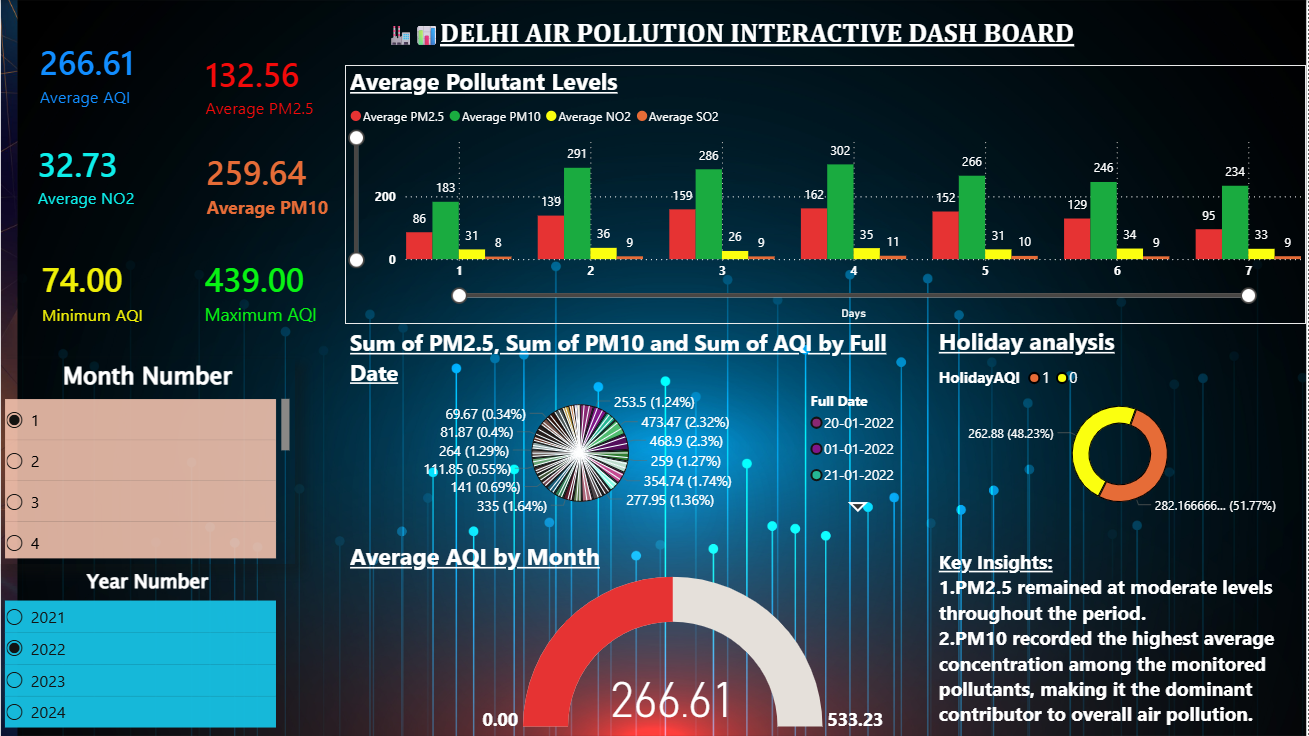

Layout of this report page (visuals, bound fields, positions):
{"tool":"powerbi","page":{"name":"Page 1","canvas":[1280,720],"ordinal":0},"visuals":[{"type":"image","box":[1.2,0,1279.1,720.2],"z":0},{"type":"cardVisual","fields":{"Data":["delhi_air_quality_clean.Average NO2"]},"box":[0,103.9,199.3,134.5],"z":2000},{"type":"cardVisual","fields":{"Data":["delhi_air_quality_clean.Average PM10"]},"box":[165.1,112.5,209.1,134.5],"z":4000},{"type":"clusteredColumnChart","title":"Average Pollutant Levels","fields":{"Y":["delhi_air_quality_clean.Average PM2.5","delhi_air_quality_clean.Average PM10","delhi_air_quality_clean.Average NO2","delhi_air_quality_clean.Average SO2"],"Category":["delhi_air_quality_clean.Days"]},"box":[362,289.8,918.3,253.1],"z":6000},{"type":"scatterChart","fields":{"Size":["Sum(delhi_air_quality_clean.PM10)"],"X":["Sum(delhi_air_quality_clean.PM2.5)"],"Y":["Sum(delhi_air_quality_clean.AQI)"],"Category":["delhi_air_quality_clean.Full Date"]},"box":[362,545.4,918.3,174.9],"z":7000},{"type":"cardVisual","fields":{"Data":["delhi_air_quality_clean.Maximum AQI"]},"box":[165.1,218.9,199.3,132.1],"z":8000},{"type":"listSlicer","fields":{"Values":["delhi_air_quality_clean.Month Number"]},"box":[37.9,342.4,302,200.5],"z":10000},{"type":"listSlicer","fields":{"Values":["delhi_air_quality_clean.Year Number"]},"box":[37.9,545.4,302,159],"z":11000},{"type":"textbox","box":[448.8,1.2,734.9,88],"z":13000},{"type":"cardVisual","fields":{"Data":["delhi_air_quality_clean.Minimum AQI"]},"box":[0,209.1,189.5,151.6],"z":14000},{"type":"lineChart","title":"Average AQI by Date","fields":{"Y":["delhi_air_quality_clean.Average AQI"],"Series":["delhi_air_quality_clean.Year Number"],"Category":["delhi_air_quality_clean.Full Date Hierarchy.Full Date"]},"box":[359.5,89.3,918.3,201.8],"z":14001},{"type":"cardVisual","fields":{"Data":["delhi_air_quality_clean.Average AQI"]},"box":[0,0,192,144],"z":14003},{"type":"cardVisual","fields":{"Data":["delhi_air_quality_clean.Average PM2.5"]},"box":[176,0,176,144],"z":14004}]}

Visuals, with their boxes in screenshot pixels (x1, y1, x2, y2), scaled from the page's 1280x720 canvas onto the 1309x736 screenshot:
image: left=1, top=0, right=1308, bottom=735
cardVisual - delhi_air_quality_clean.Average NO2: left=0, top=106, right=204, bottom=244
cardVisual - delhi_air_quality_clean.Average PM10: left=169, top=115, right=383, bottom=252
"Average Pollutant Levels" clusteredColumnChart: left=370, top=296, right=1308, bottom=555
scatterChart - Sum(delhi_air_quality_clean.PM10) x Sum(delhi_air_quality_clean.PM2.5): left=370, top=558, right=1308, bottom=735
cardVisual - delhi_air_quality_clean.Maximum AQI: left=169, top=224, right=373, bottom=359
listSlicer - delhi_air_quality_clean.Month Number: left=39, top=350, right=348, bottom=555
listSlicer - delhi_air_quality_clean.Year Number: left=39, top=558, right=348, bottom=720
textbox: left=459, top=1, right=1211, bottom=91
cardVisual - delhi_air_quality_clean.Minimum AQI: left=0, top=214, right=194, bottom=369
"Average AQI by Date" lineChart: left=368, top=91, right=1307, bottom=298
cardVisual - delhi_air_quality_clean.Average AQI: left=0, top=0, right=196, bottom=147
cardVisual - delhi_air_quality_clean.Average PM2.5: left=180, top=0, right=360, bottom=147
